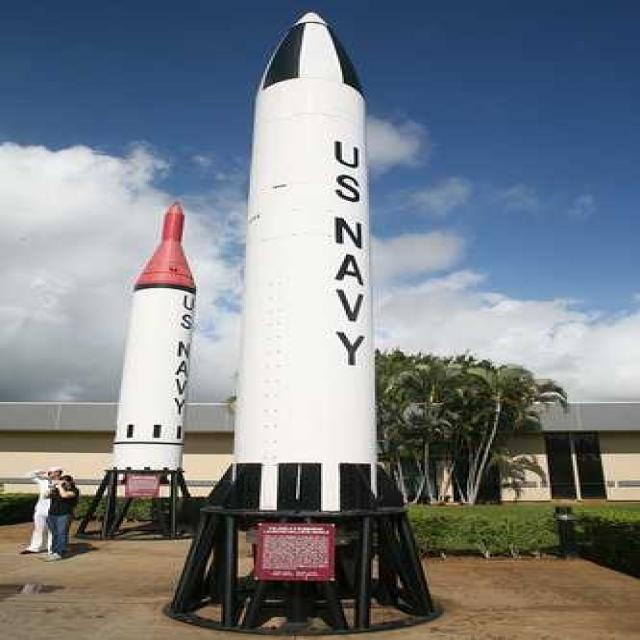missile: (165, 6, 434, 640), (79, 204, 204, 536)
